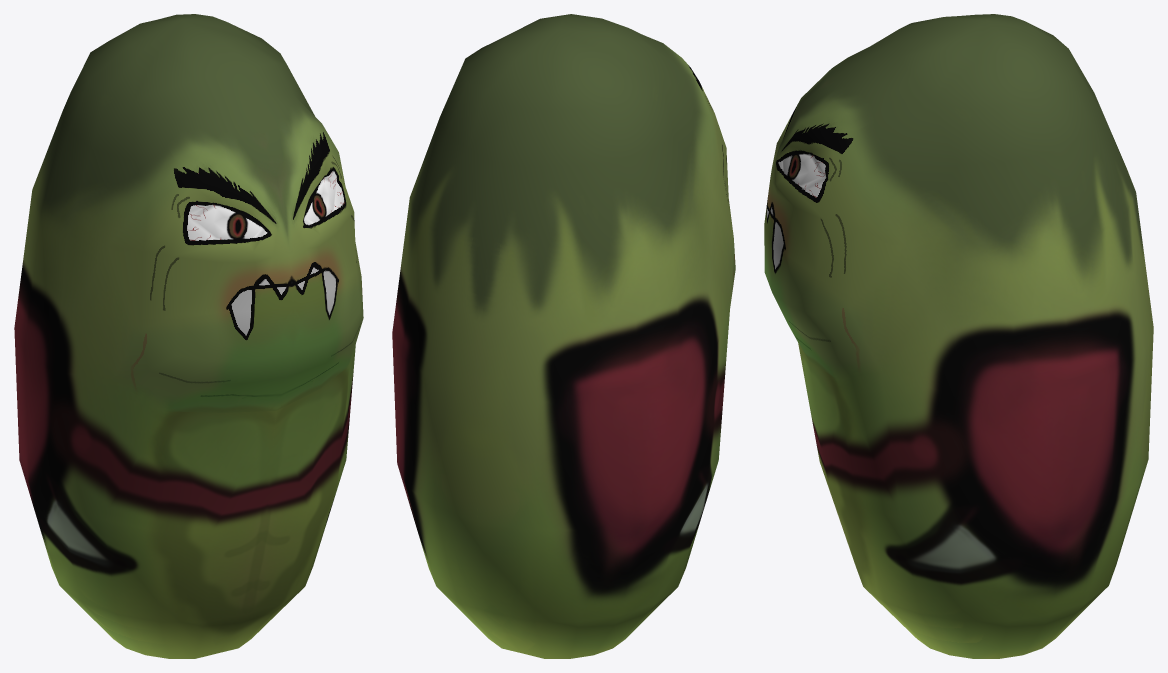
File: CapsuleDW.fbx
3 views of the same model, side by side, from view 1: azimuth 30°, elevation 25°; view 2: azimuth 150°, elevation 25°; view 3: azimuth 270°, elevation 25° (orthographic).
Parts seen in each view (by area): view 1: Sphere; view 2: Sphere; view 3: Sphere.
Part boxes in pixels (x1,y1,x2,y2): Sphere: (14,14,363,658); Sphere: (392,14,735,658); Sphere: (764,14,1153,658).
Bounding box in the file's own units: 144 × 297 × 169.
Materials: 1 (1 with a texture image).
